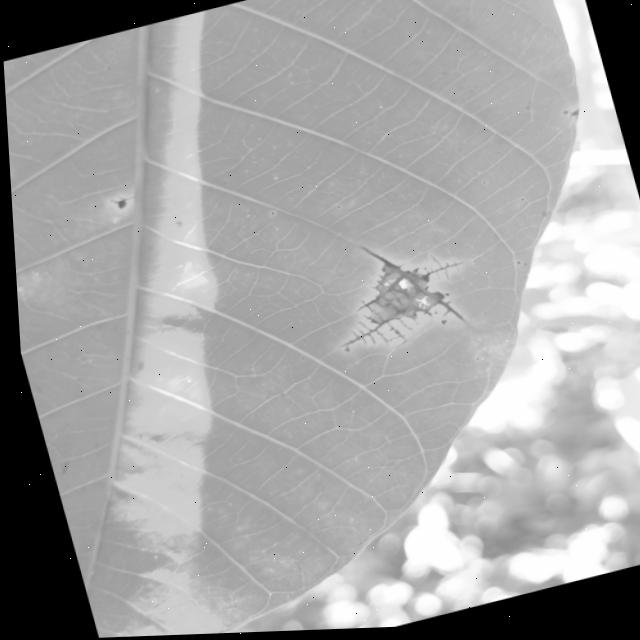Corynespora: (310, 224, 482, 360), (329, 305, 419, 358), (415, 249, 466, 289), (106, 194, 135, 212)
